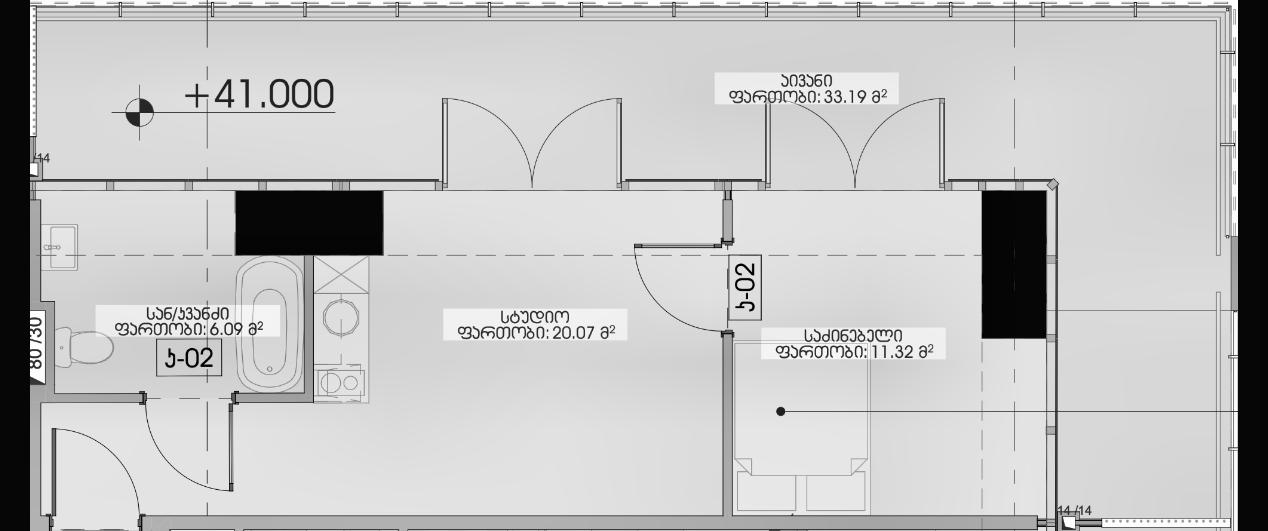door: (628, 240, 744, 341), (136, 385, 241, 496), (534, 85, 633, 193), (852, 92, 952, 198), (436, 86, 535, 192), (46, 426, 145, 531), (762, 94, 853, 197)
